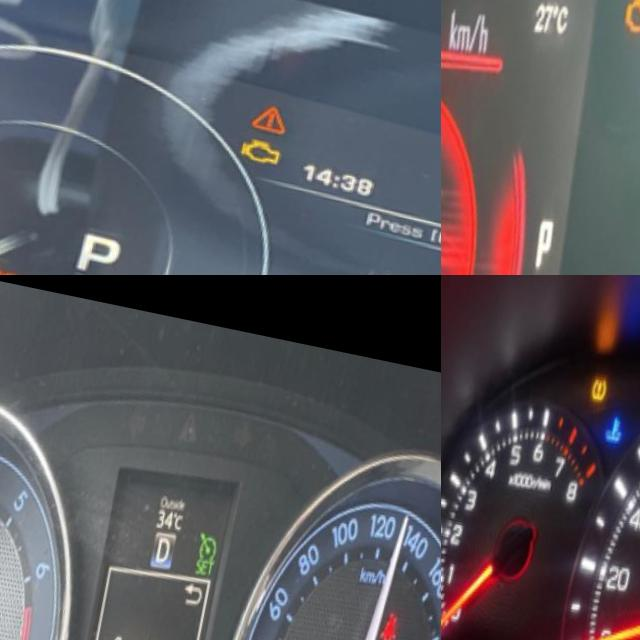High Engine Coolant Temperature: (609, 401, 638, 442)
Seat Belt: (389, 581, 415, 625)
